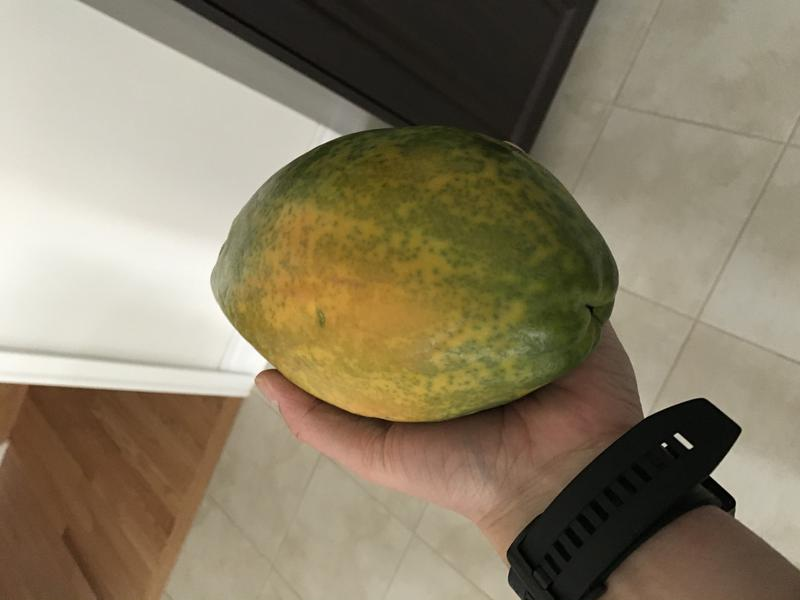papaya: (201, 110, 634, 436)
